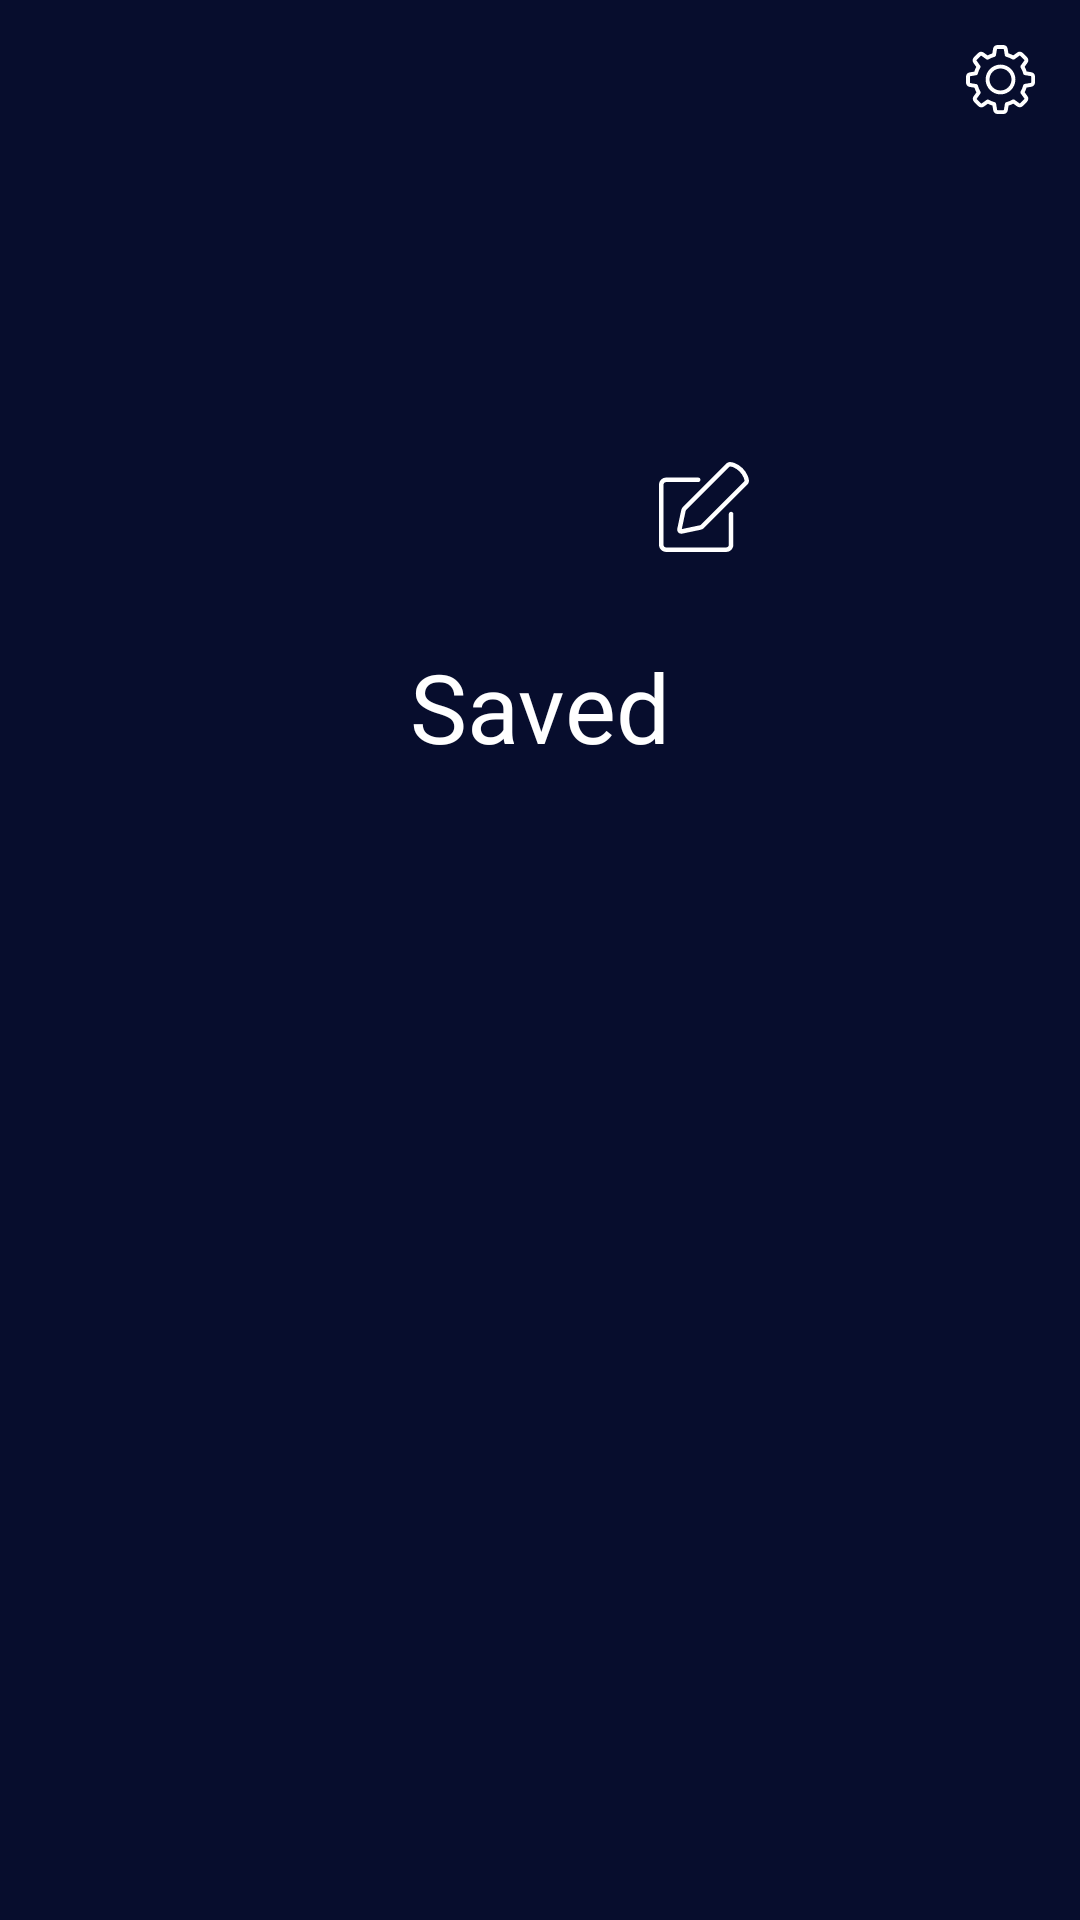

Point at icon controls on the screen. Image size 1080×1920, points as (x,y).
edit profile: (704,507)
Settings: (1000,79)
